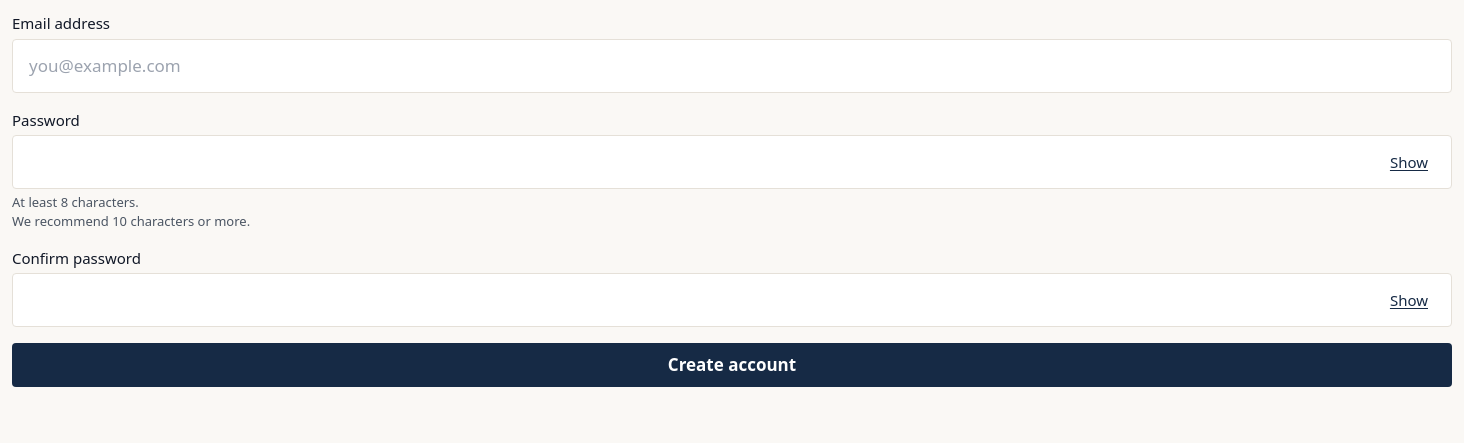
Test: auth forms — provider failures (TM-04) › renders the generic sign-up failure and never the raw provider error
In the field labelled "Email address": [732, 66] box [12,38,1452,92], type "traveler@waynora.test"
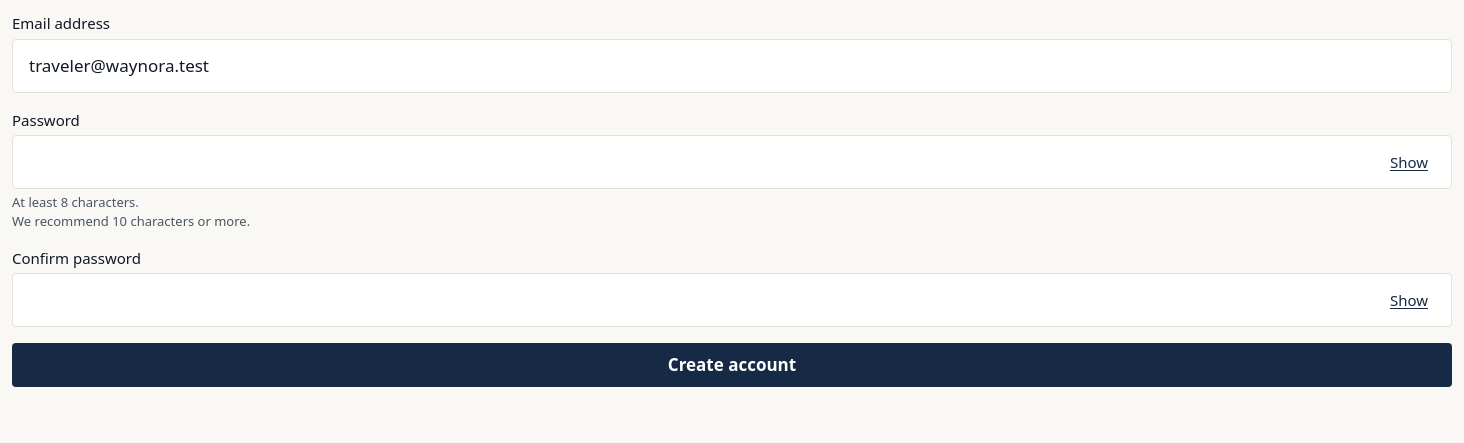
In the password field labelled "Password": [732, 162] box [12,135,1452,189], type "password123"
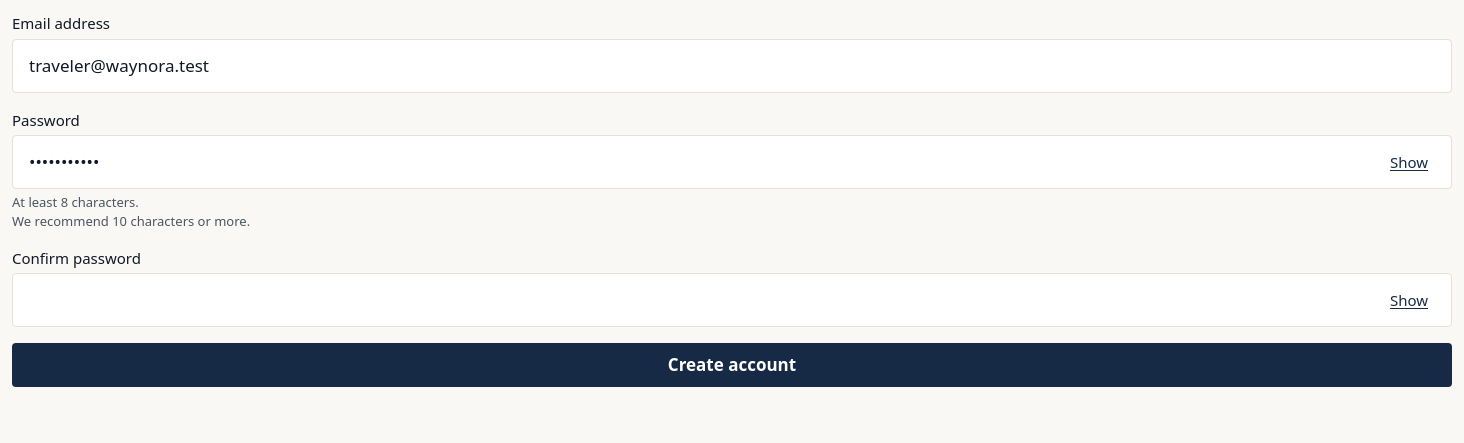
In the password field labelled "Confirm password": [732, 300] box [12,273,1452,327], type "password123"
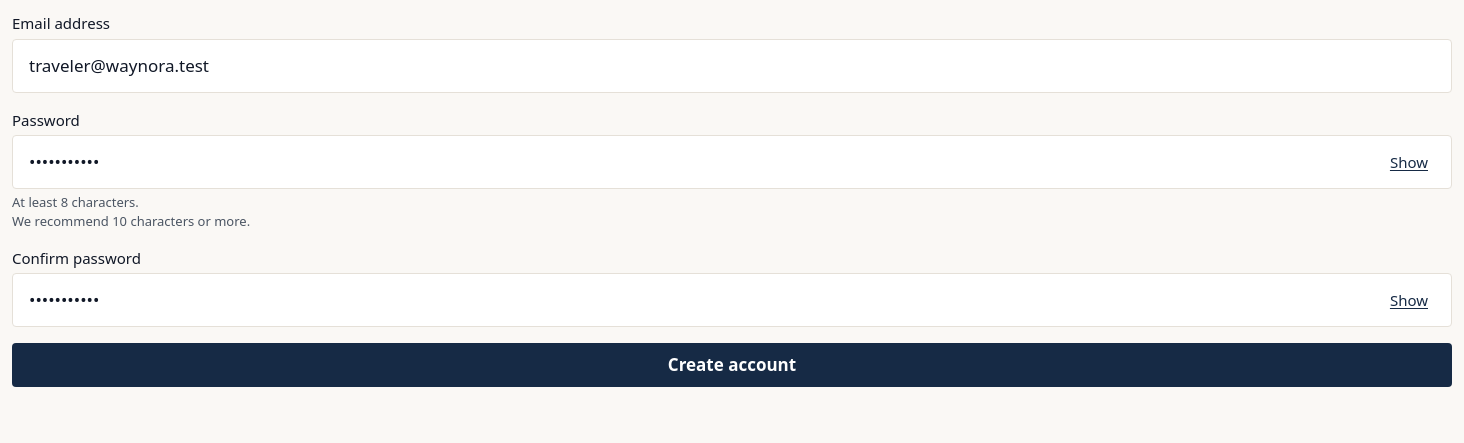
Click the button "Create account": [732, 365] box [12,343,1452,387]
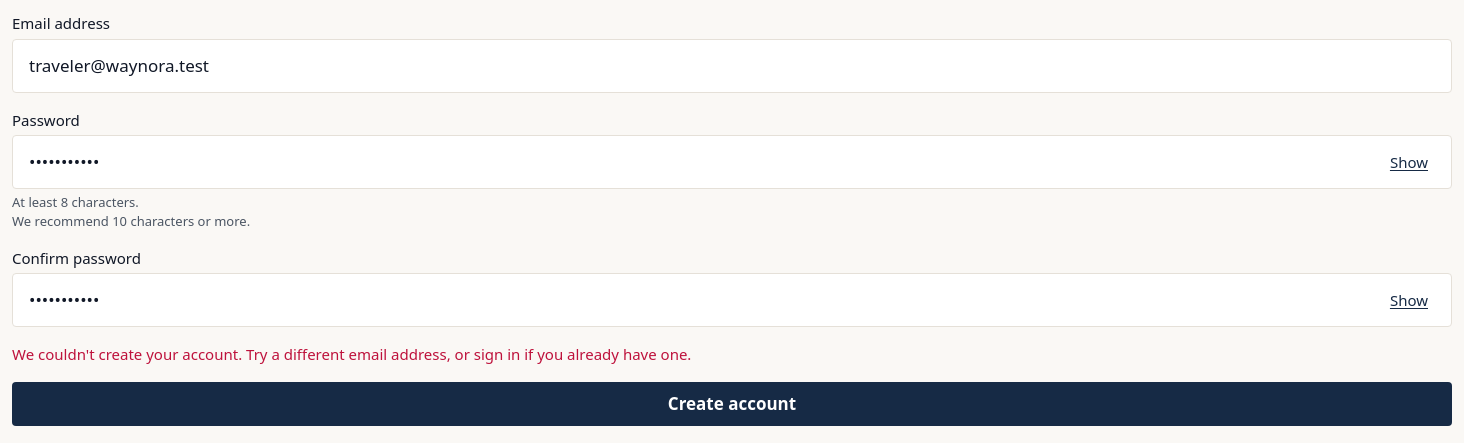
Result: the text "We couldn't create your account. Try a different email address, or sign in if you already have one." is shown at [12,344,691,364]
